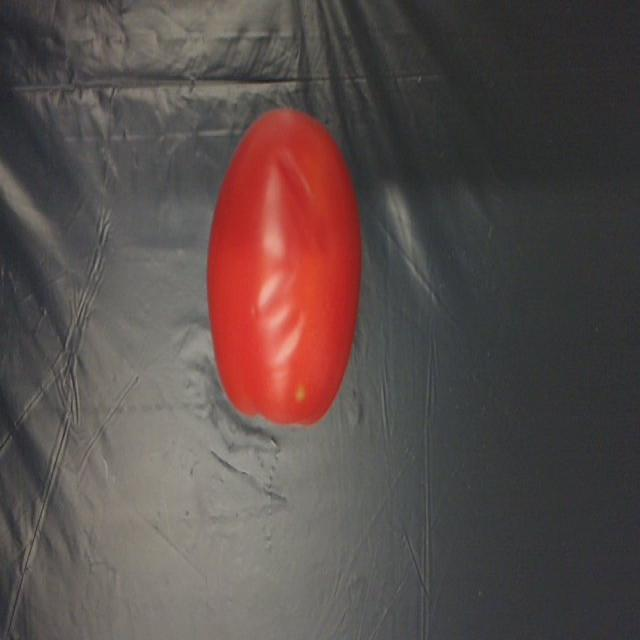kirmizi: (193, 110, 374, 425)
